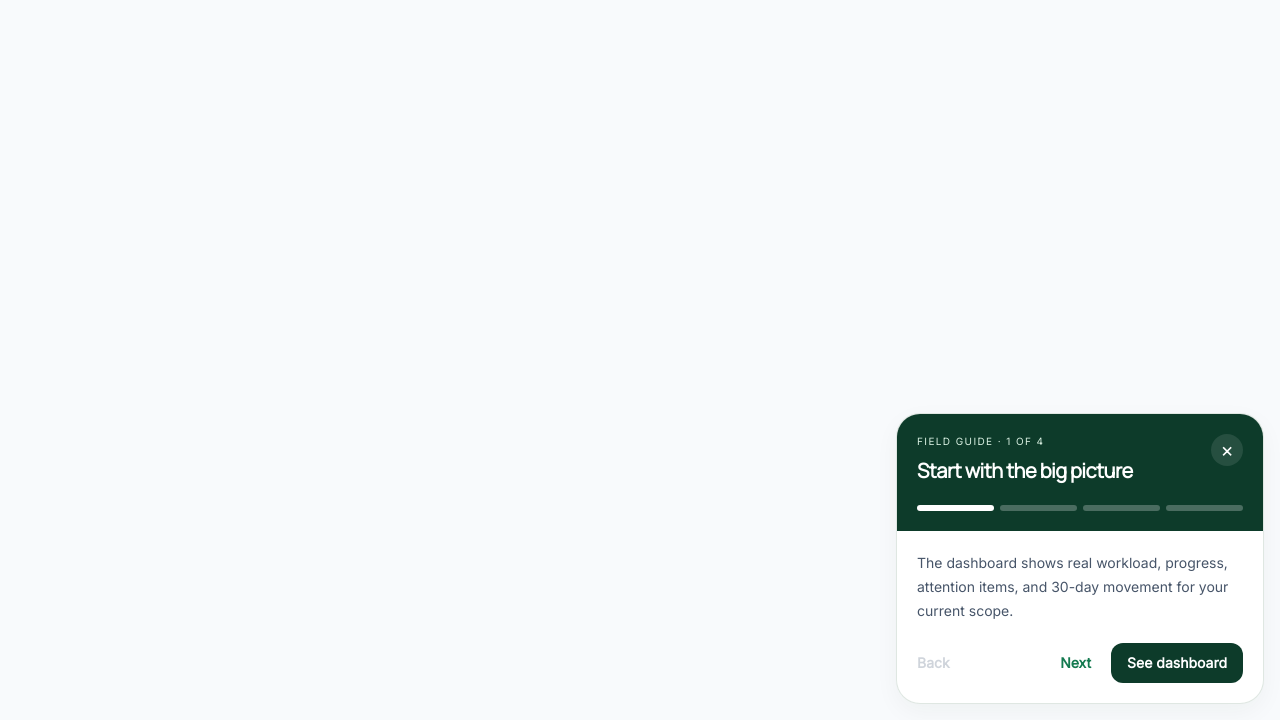
Scenario: ProductGuide › sends administrators to the real reports page
The image size is (1280, 720).
Click the button "Next".
click(1076, 663)  # box [1048, 643, 1103, 683]
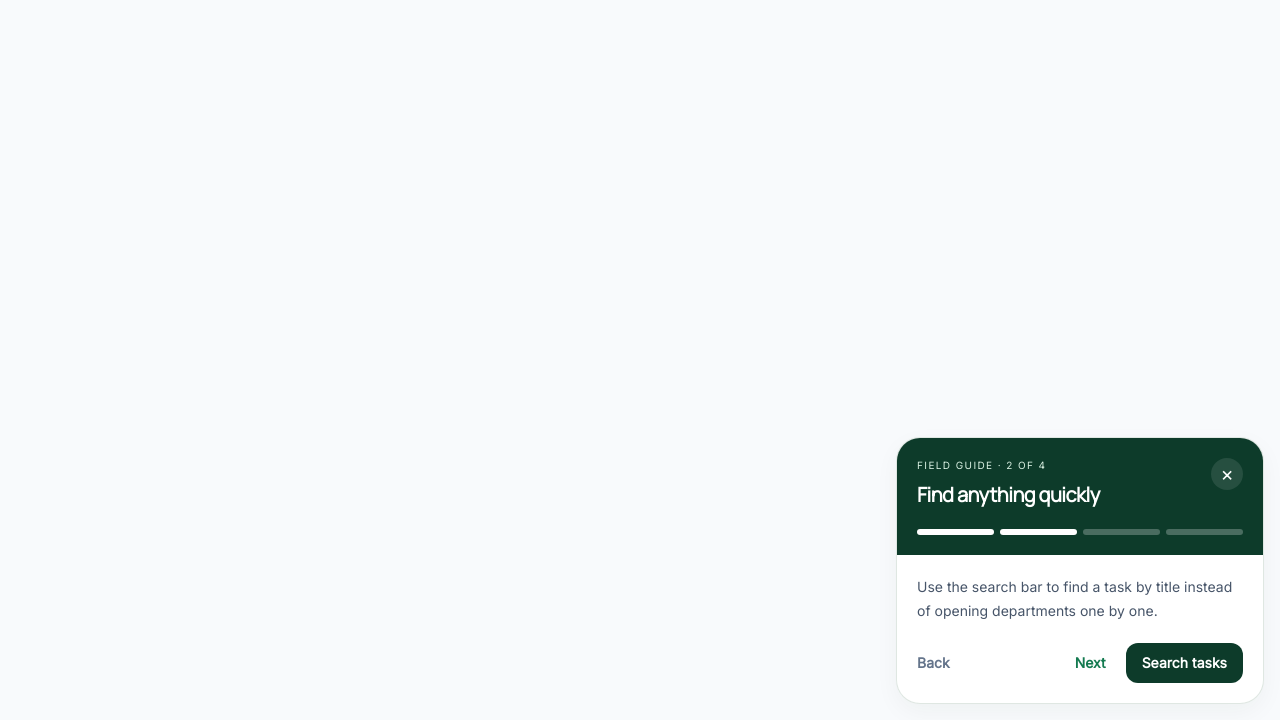
Click the button "Next".
click(1090, 663)  # box [1063, 643, 1118, 683]
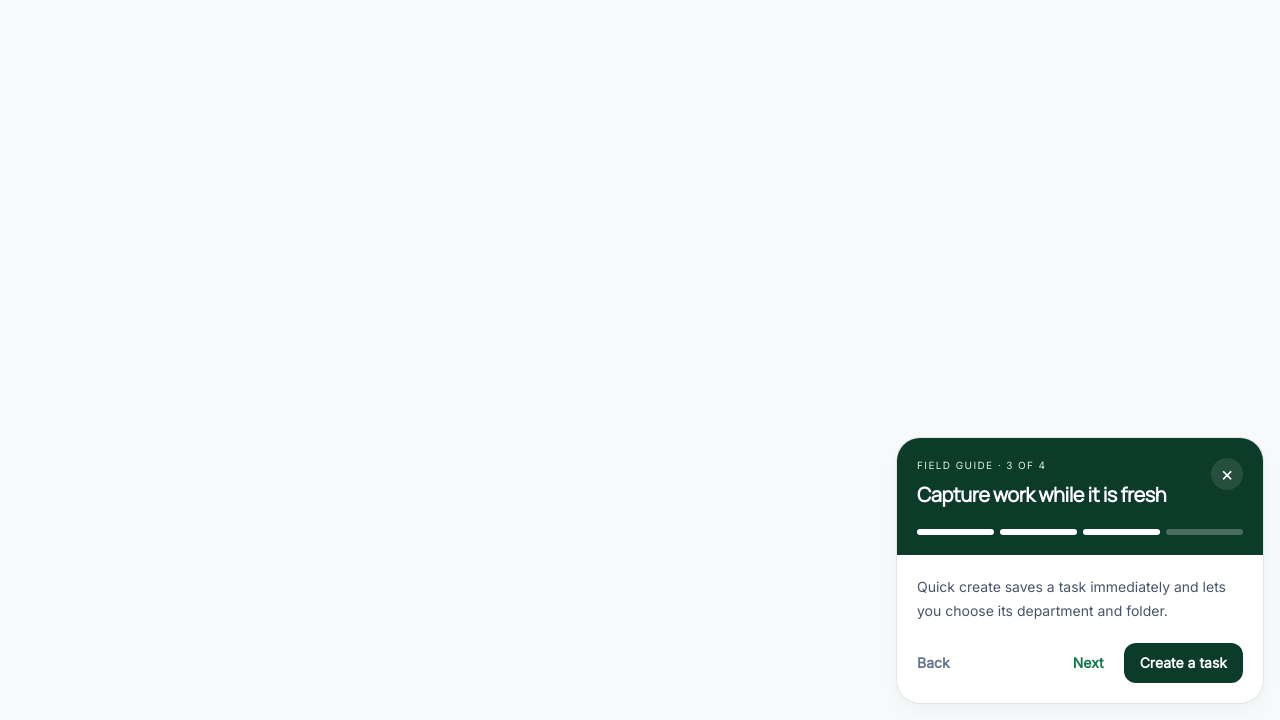
Click the button "Next".
click(1088, 663)  # box [1061, 643, 1116, 683]
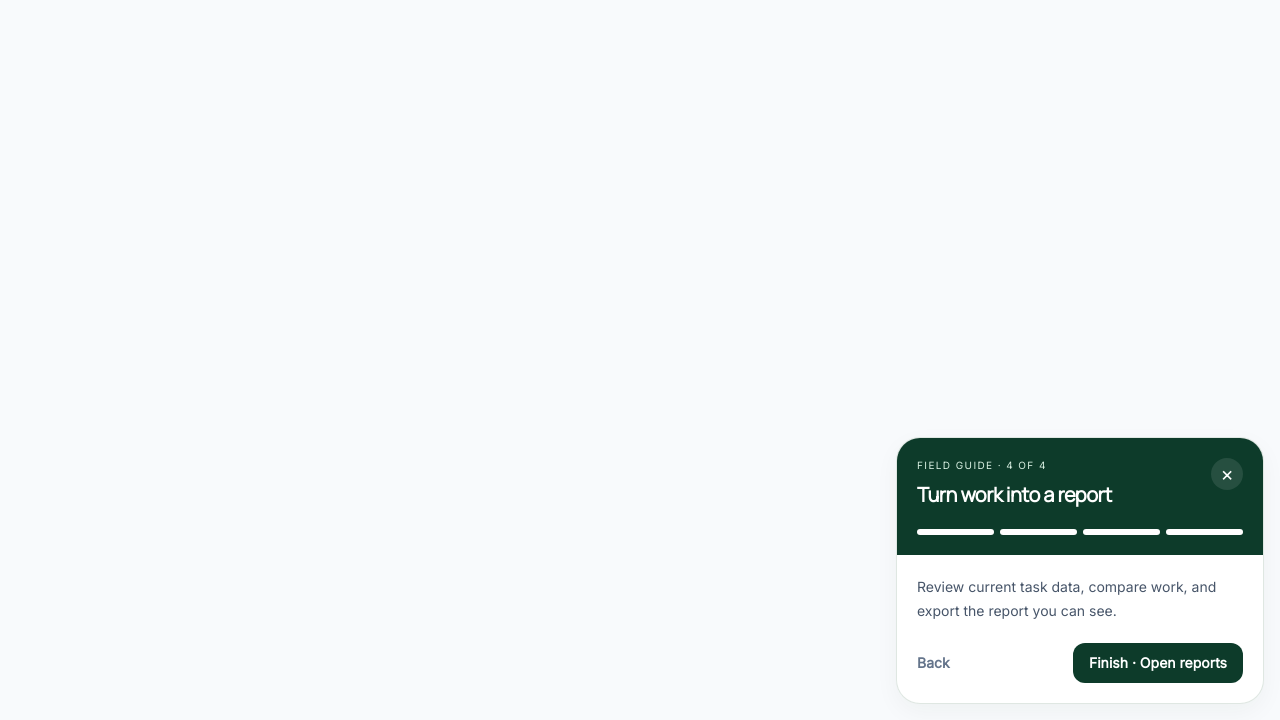
Check: the link to "/reports" shows "Open reports", box [1073, 643, 1243, 683]
